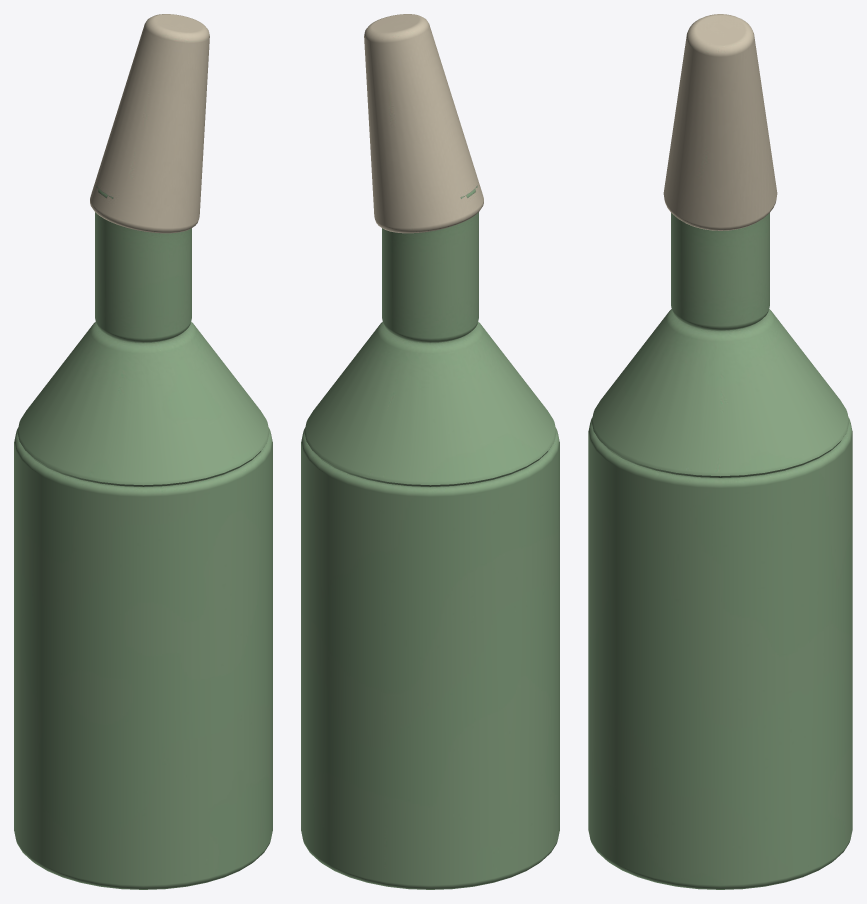
The model's file is molotov.fbx.
The picture shows the model from 3 angles, left to right: view 1: azimuth 30°, elevation 25°; view 2: azimuth 150°, elevation 25°; view 3: azimuth 270°, elevation 25°; orthographic projection. The views are drawn at different scales.
Visible parts, largest first — view 1: molotov; view 2: molotov; view 3: molotov.
Boxes of the visible parts, x1,y1,x2,y2 form: molotov: (14, 14, 272, 889); molotov: (301, 14, 559, 889); molotov: (588, 14, 852, 889).
Bounding box in the file's own units: 0.064 × 0.2212 × 0.064.
